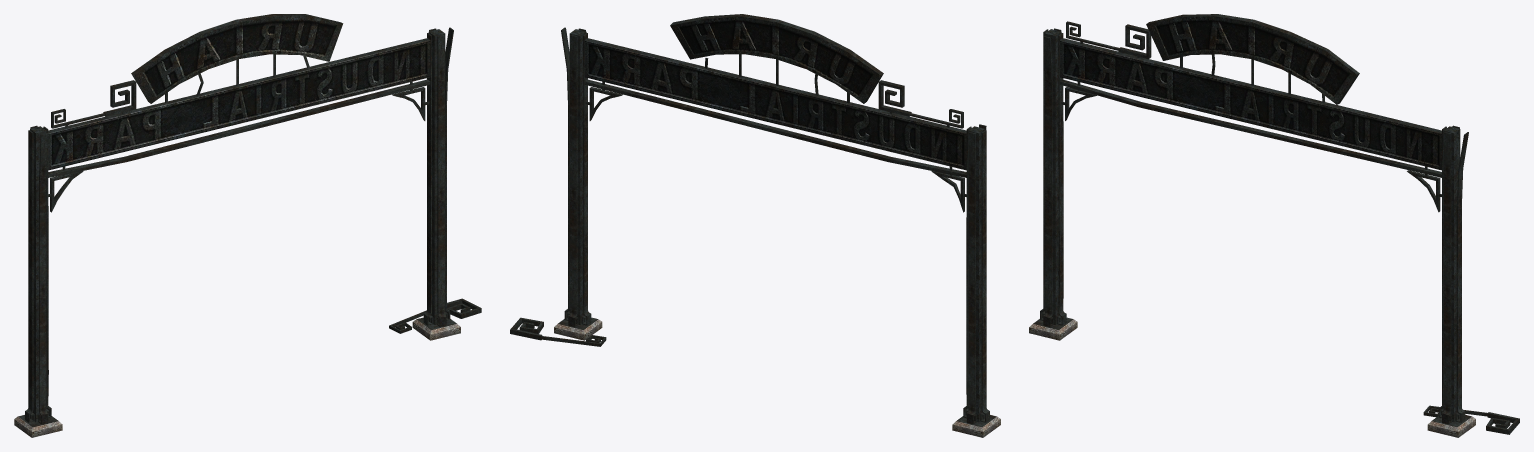
Rendered from ironwork_uriah.fbx.
The picture shows the model from 3 angles, left to right: view 1: azimuth 30°, elevation 25°; view 2: azimuth 150°, elevation 25°; view 3: azimuth 330°, elevation 25°; orthographic projection.
Parts seen in each view (by area): view 1: mesh_0; view 2: mesh_0; view 3: mesh_0.
Boxes of the visible parts, left/top/right/bottom form: mesh_0: left=14, top=14, right=481, bottom=437; mesh_0: left=510, top=14, right=1000, bottom=437; mesh_0: left=1029, top=14, right=1519, bottom=437.
Size of the model in its own units: 1634 by 1203 by 183.
Materials: 1 (1 with a texture image).
